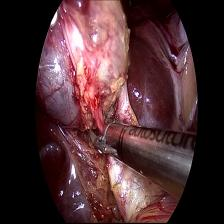Clipper: (87, 113, 124, 159)
